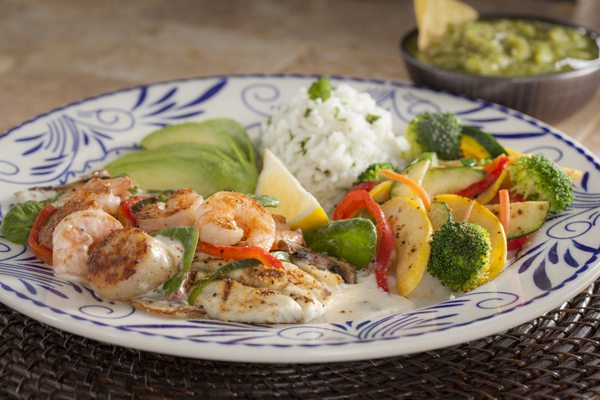curry: (428, 219, 490, 292), (507, 152, 575, 213), (304, 216, 377, 268), (405, 109, 463, 161)
sushi: (400, 0, 600, 126)
